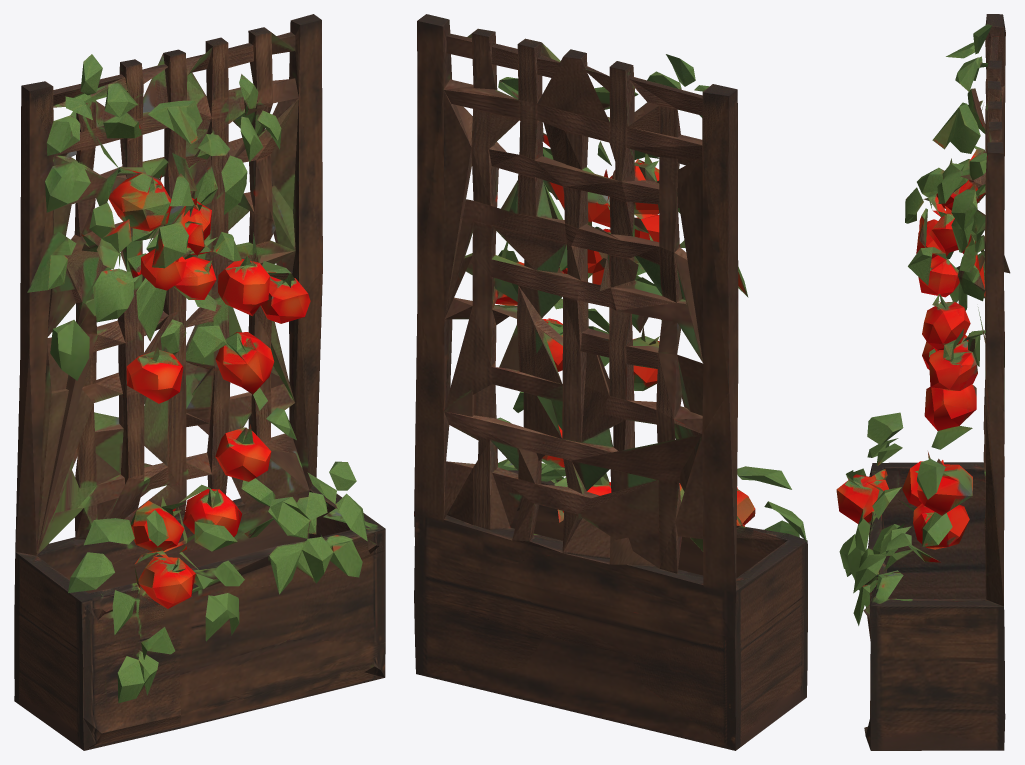
File: trellis.glb
3 renders of one model, left to right at view 1: azimuth 30°, elevation 25°; view 2: azimuth 150°, elevation 25°; view 3: azimuth 270°, elevation 25°, orthographic. The views are drawn at different scales.
Bounding box in the file's own units: 0.9681 × 1.9 × 0.4855.
Materials: 1 (1 with a texture image).
